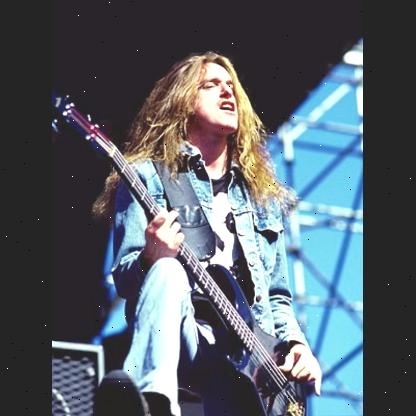bass: (56, 82, 316, 412)
